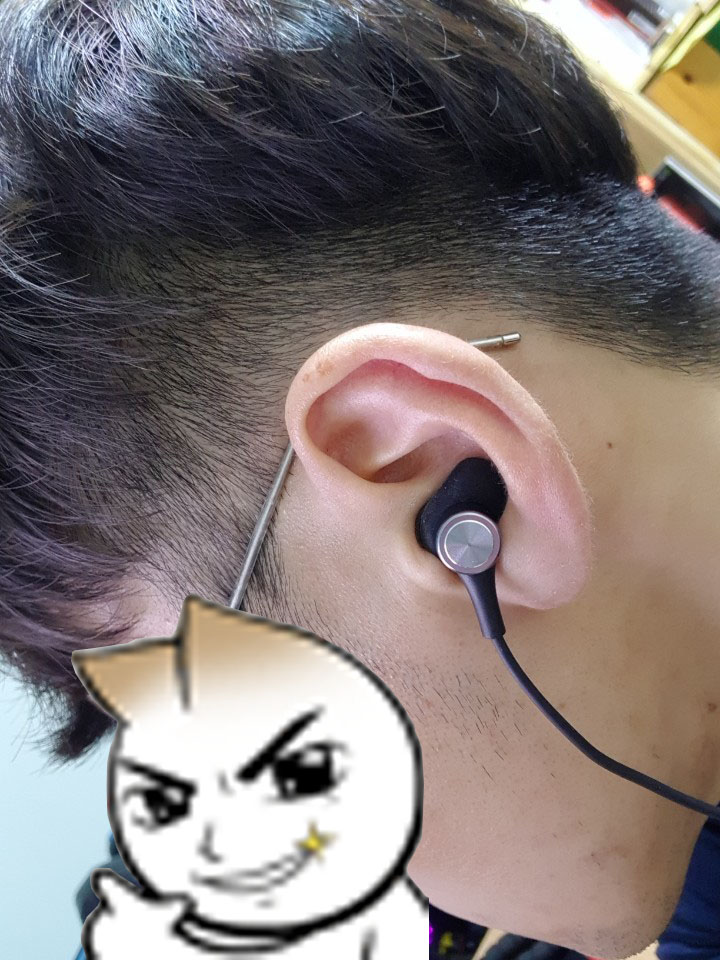earphone: (285, 324, 590, 611)
